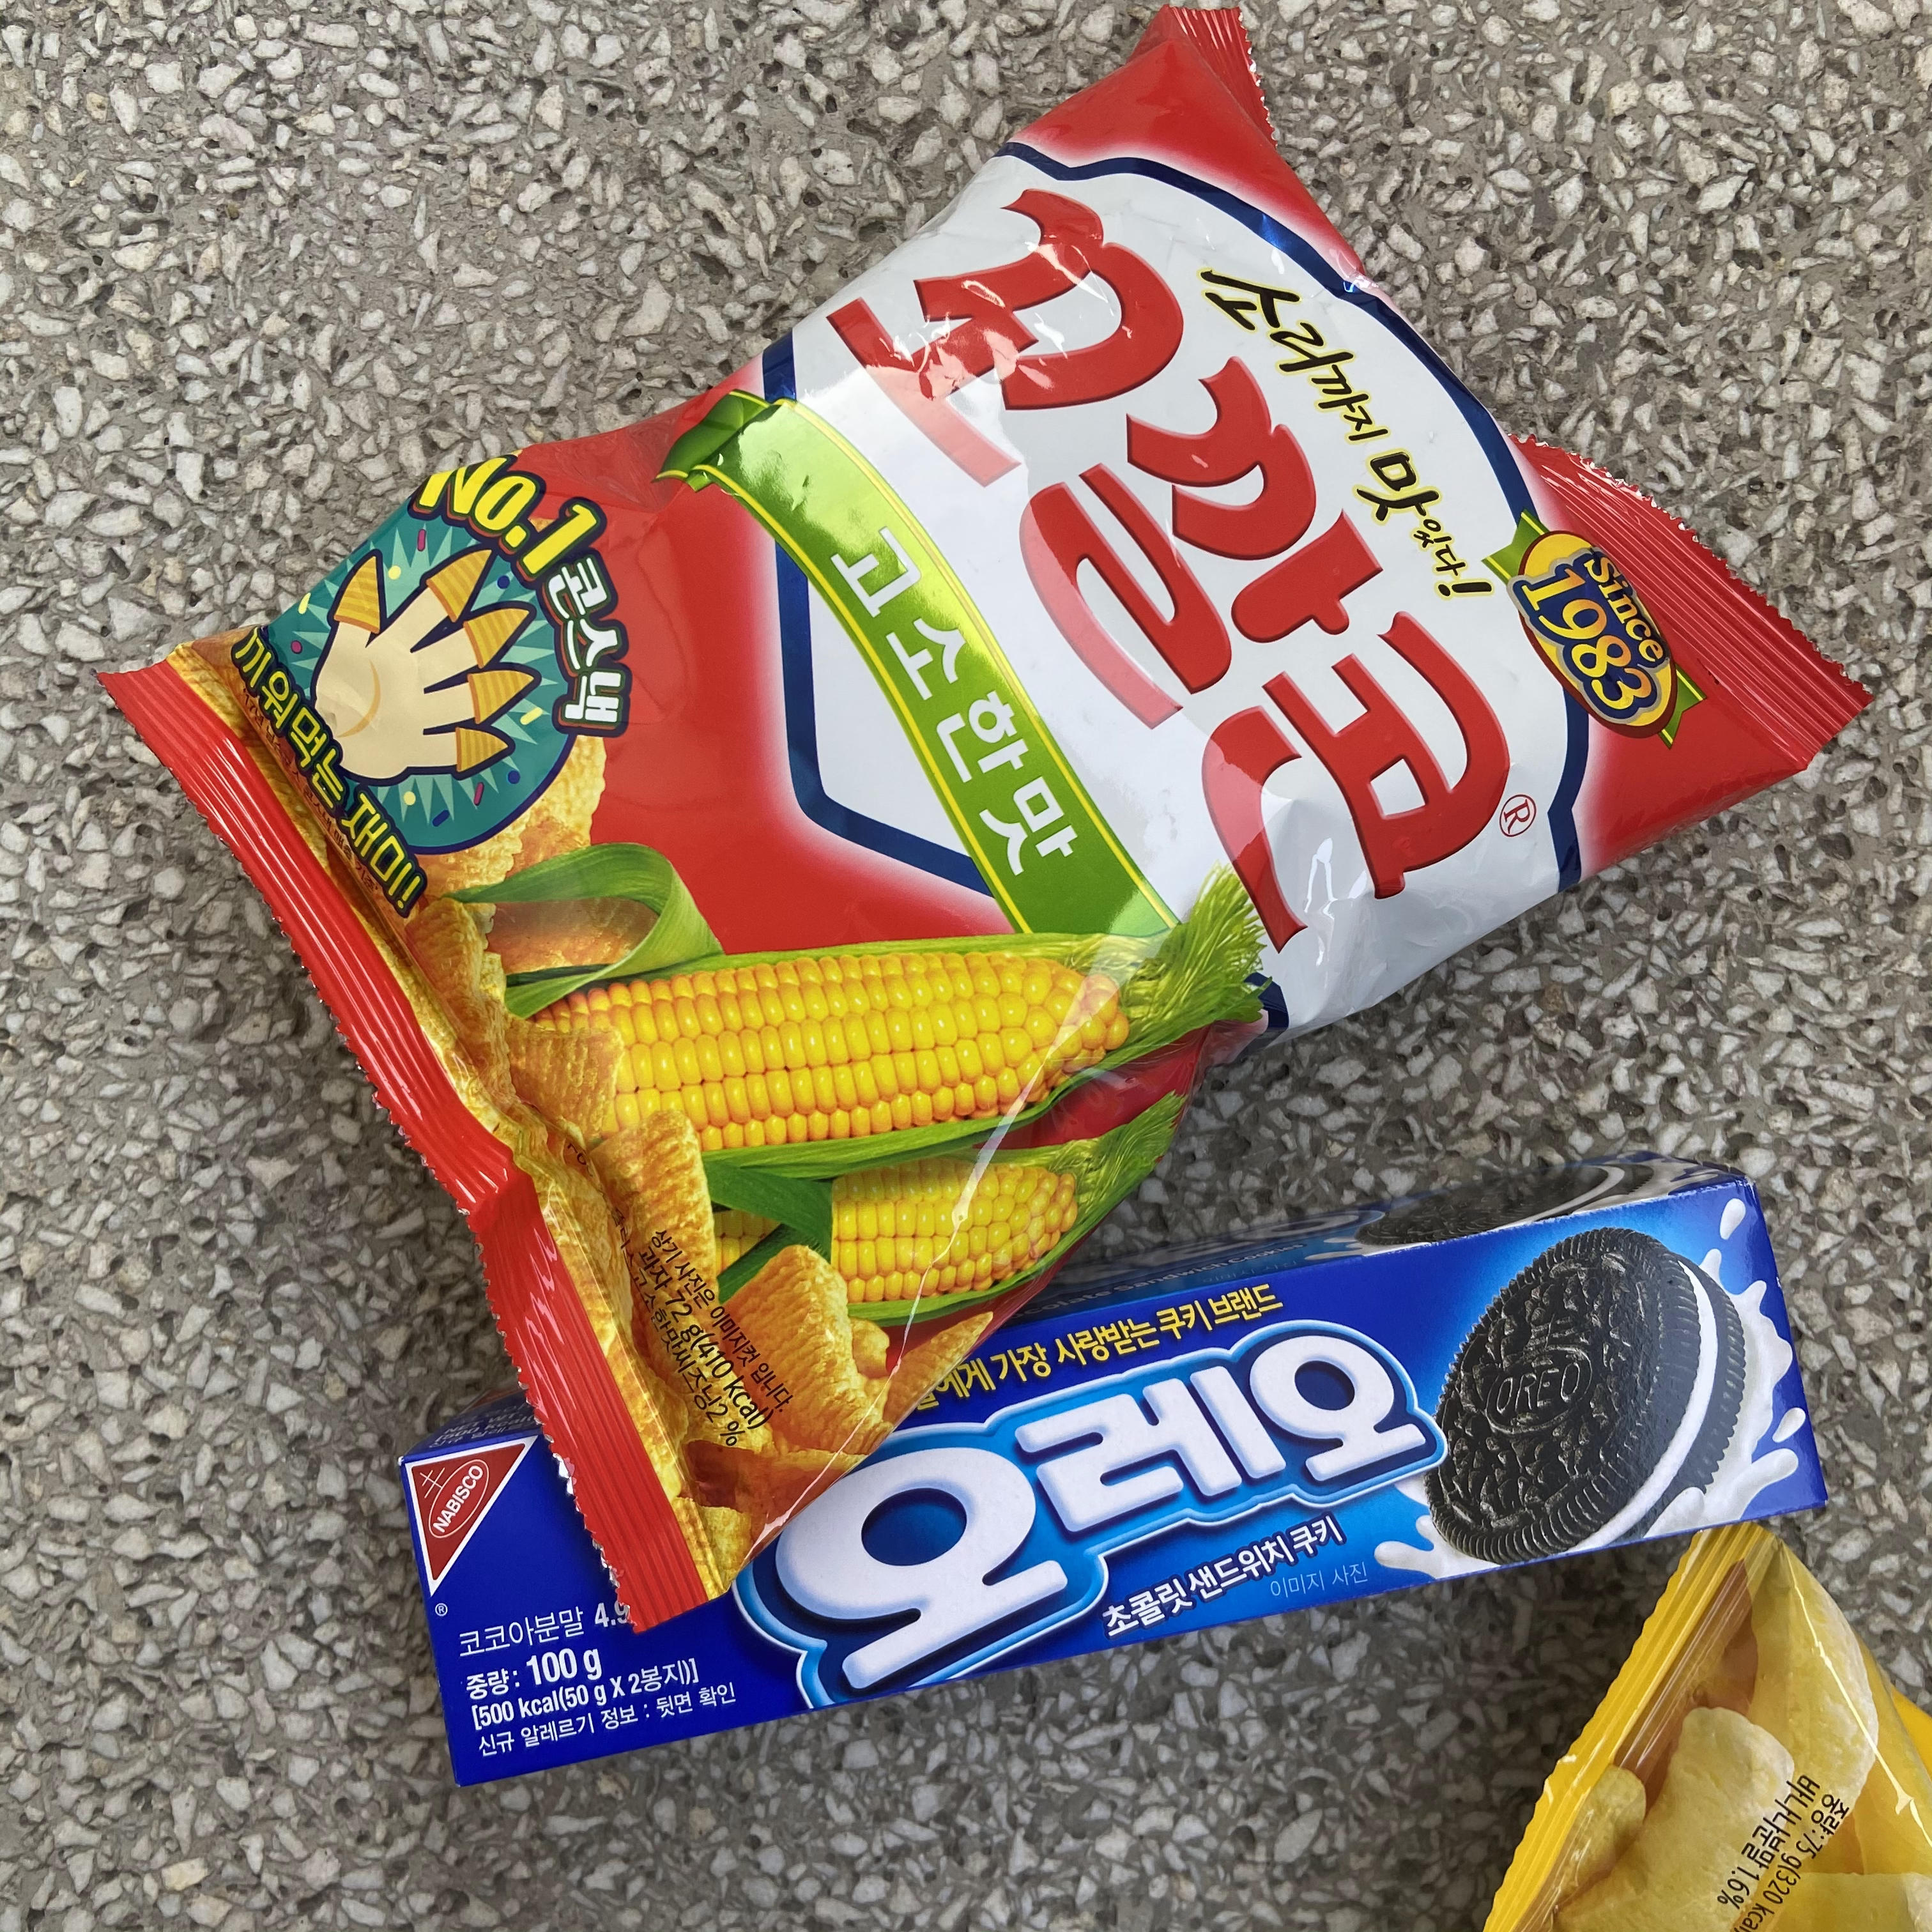ggoggalcon: (76, 0, 1877, 1651)
oreo: (375, 1120, 1851, 1798)
